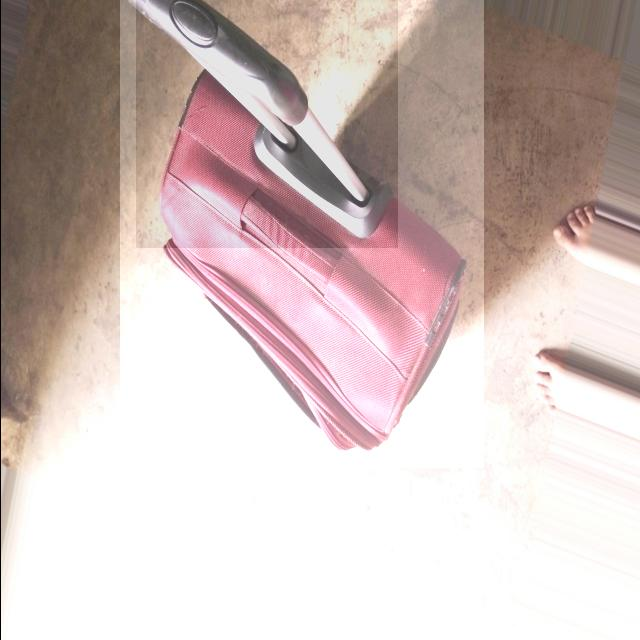Bag: (119, 1, 479, 472)
Handle: (134, 2, 398, 244)
